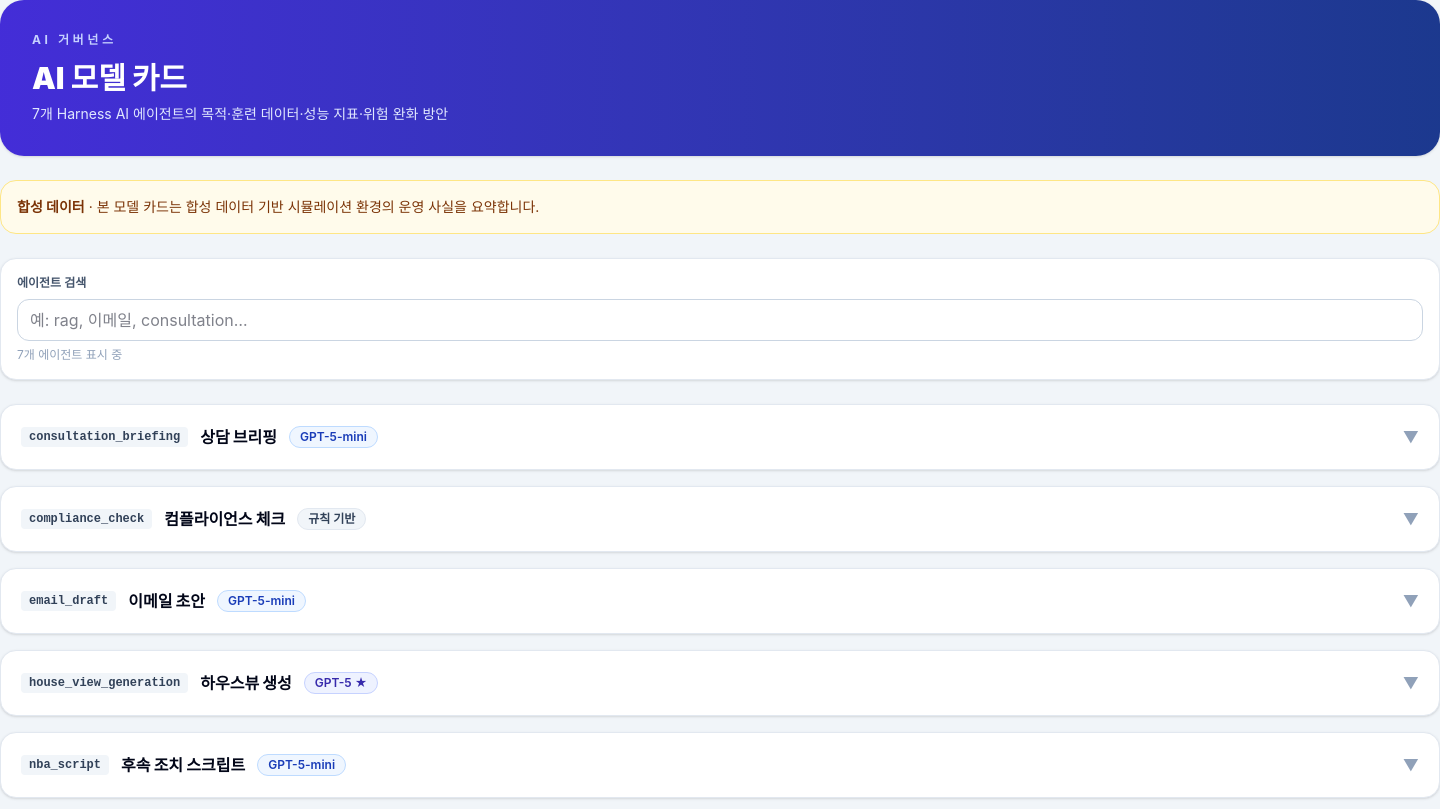
Test: AIModelCardsPage a11y › expanding a card shows metrics table
Click the button "consultation_briefing 상담 브리핑 GPT-5-mini ▼".
click(105, 437)  # box [1,405,1439,469]
(page scrolled)
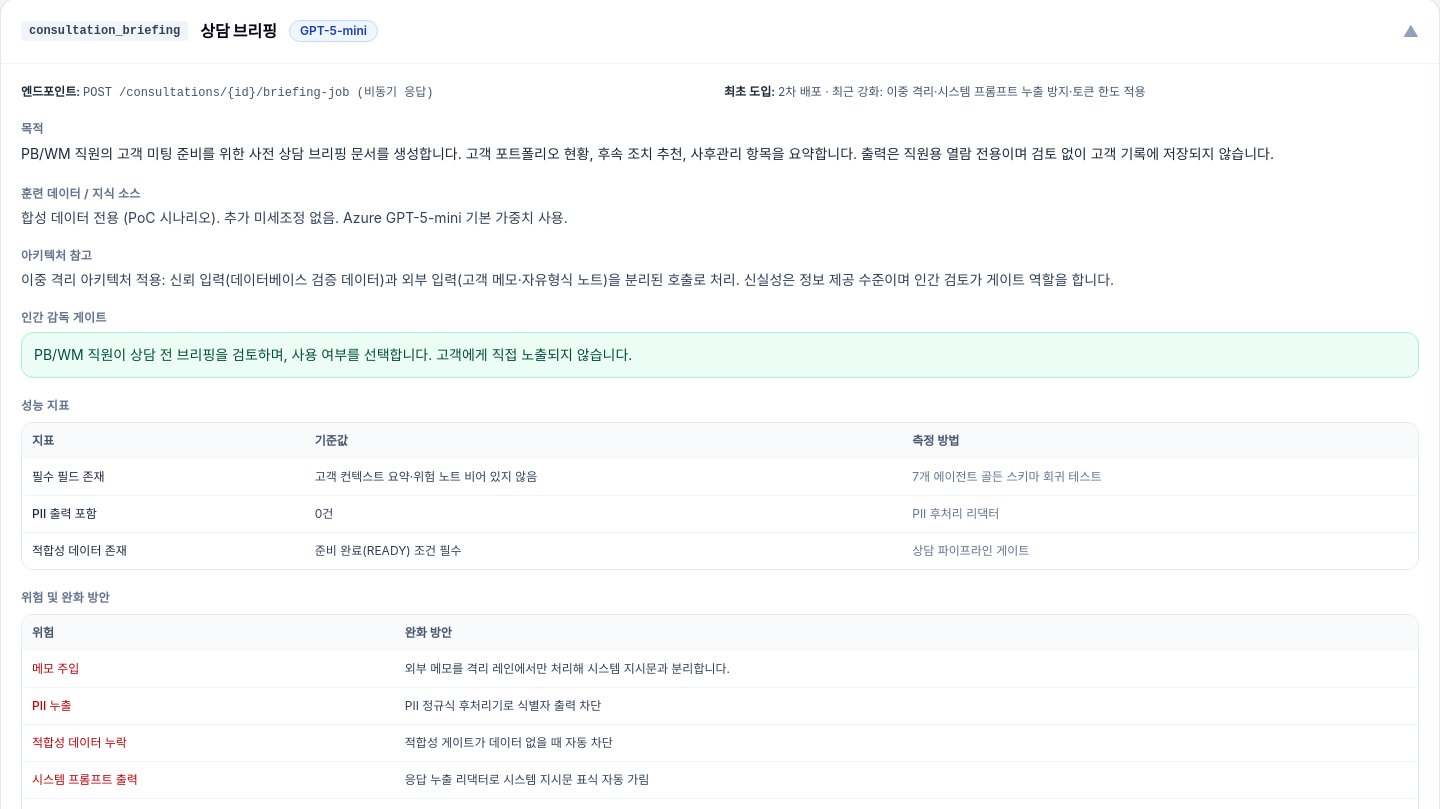
expect the heading "성능 지표" is shown: met, box [21,398,70,413]
